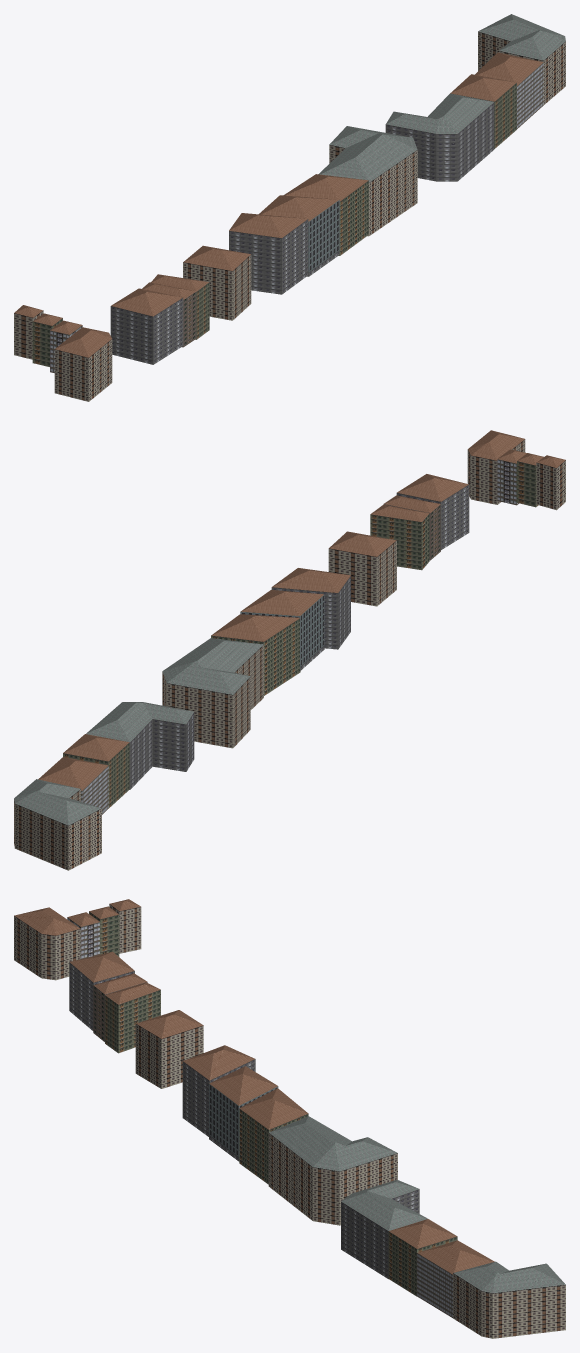
Rendered from GrupoEdificios7.FBX.
3 views of the same model, one above another, from view 1: azimuth 30°, elevation 25°; view 2: azimuth 210°, elevation 25°; view 3: azimuth 270°, elevation 25° (orthographic).
Parts seen in each view (by area): view 1: Model20, Model59, Model19, Model33, Model13, Model56, Model61, Model18, Model23, Model35, Model54, Model46 (+4 smaller); view 2: Model59, Model13, Model20, Model61, Model23, Model19, Model18, Model46, Model33, Model56, Model54, Model35 (+4 smaller); view 3: Model59, Model13, Model20, Model61, Model56, Model23, Model18, Model19, Model35, Model46, Model54, Model33 (+4 smaller).
Boxes of the visible parts, x1,y1,x2,y2 form: Model20: (385, 93, 494, 181); Model59: (318, 126, 417, 236); Model19: (229, 213, 308, 294); Model33: (110, 288, 183, 364); Model13: (478, 14, 565, 104); Model56: (54, 327, 112, 401); Model61: (183, 245, 251, 320); Model18: (259, 195, 339, 276); Model23: (283, 174, 368, 255); Model35: (475, 52, 543, 128); Model54: (450, 74, 516, 148); Model46: (151, 274, 209, 339); Model59: (162, 638, 263, 748); Model13: (14, 779, 101, 870); Model20: (86, 702, 194, 789); Model61: (328, 531, 396, 606); Model23: (211, 614, 300, 695); Model19: (271, 568, 350, 649); Model18: (240, 590, 324, 670); Model46: (370, 504, 429, 570); Model33: (396, 474, 469, 549); Model56: (467, 430, 525, 504); Model54: (63, 734, 129, 808); Model35: (38, 757, 108, 814); Model59: (268, 1116, 397, 1225); Model13: (453, 1261, 565, 1338); Model20: (341, 1179, 427, 1279); Model61: (135, 1010, 203, 1088); Model56: (14, 907, 80, 980); Model23: (239, 1088, 308, 1184); Model18: (209, 1066, 278, 1161); Model19: (182, 1045, 255, 1136); Model35: (417, 1240, 494, 1317); Model46: (105, 982, 160, 1053); Model54: (388, 1219, 457, 1296); Model33: (69, 951, 134, 1030).
Size of the model in its own units: 51067 by 5558 by 33039.
